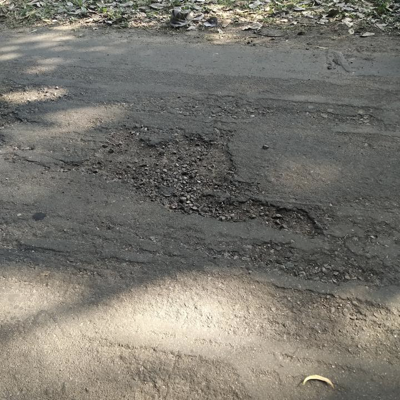pothole: (54, 124, 325, 242), (0, 109, 25, 132)
